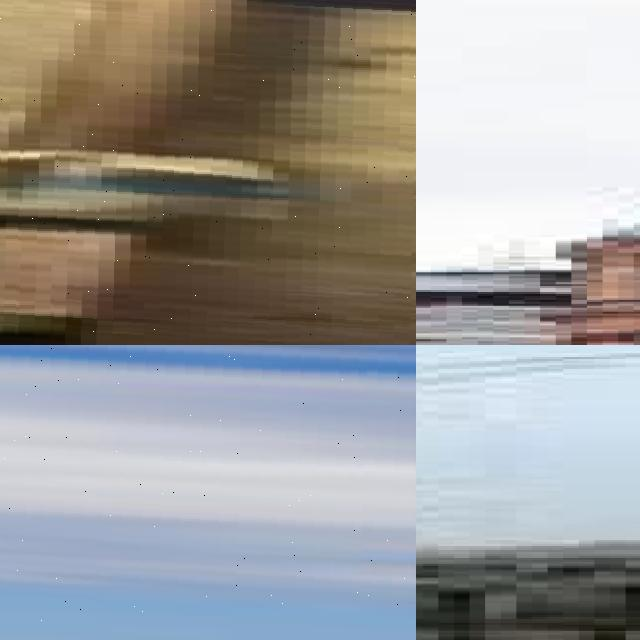street light: (0, 0, 416, 345), (0, 345, 416, 640), (416, 345, 640, 640)
